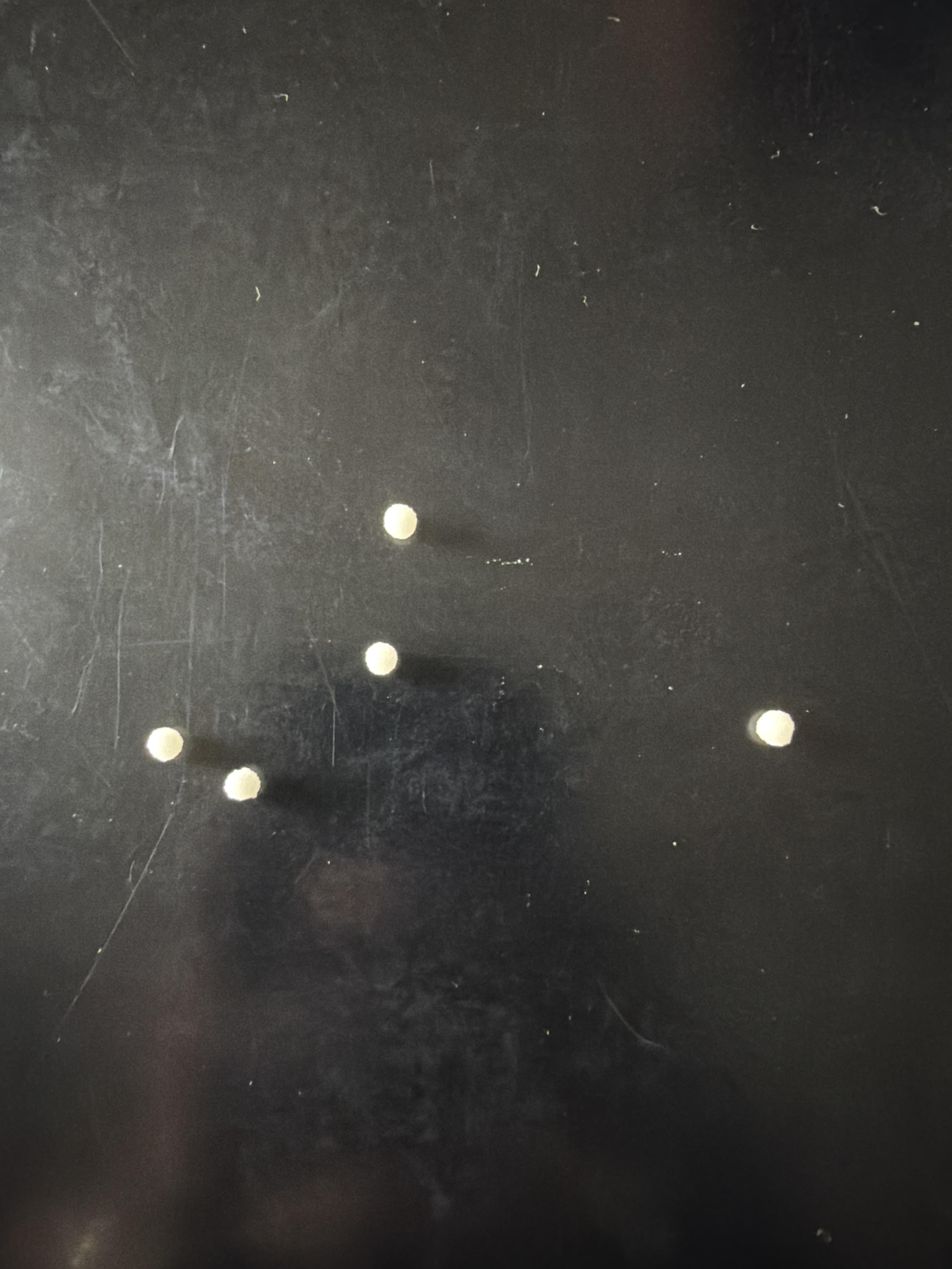pill: (748, 710, 795, 747), (145, 727, 184, 762), (223, 767, 261, 801), (383, 503, 417, 540), (365, 642, 398, 676)
